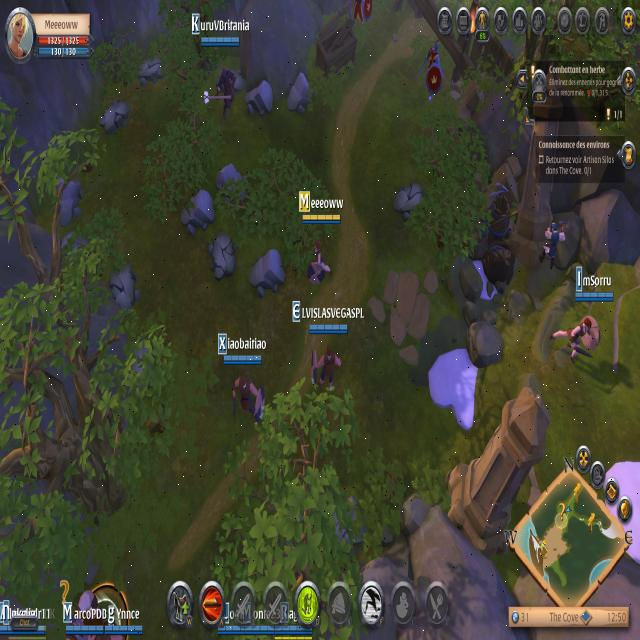broken stone: (109, 261, 142, 316), (206, 229, 238, 281), (97, 99, 132, 136), (394, 180, 424, 222), (134, 52, 166, 86)
stone: (245, 248, 287, 301), (179, 185, 216, 237), (51, 172, 84, 228), (215, 158, 247, 208), (285, 70, 315, 116), (242, 80, 274, 117)
